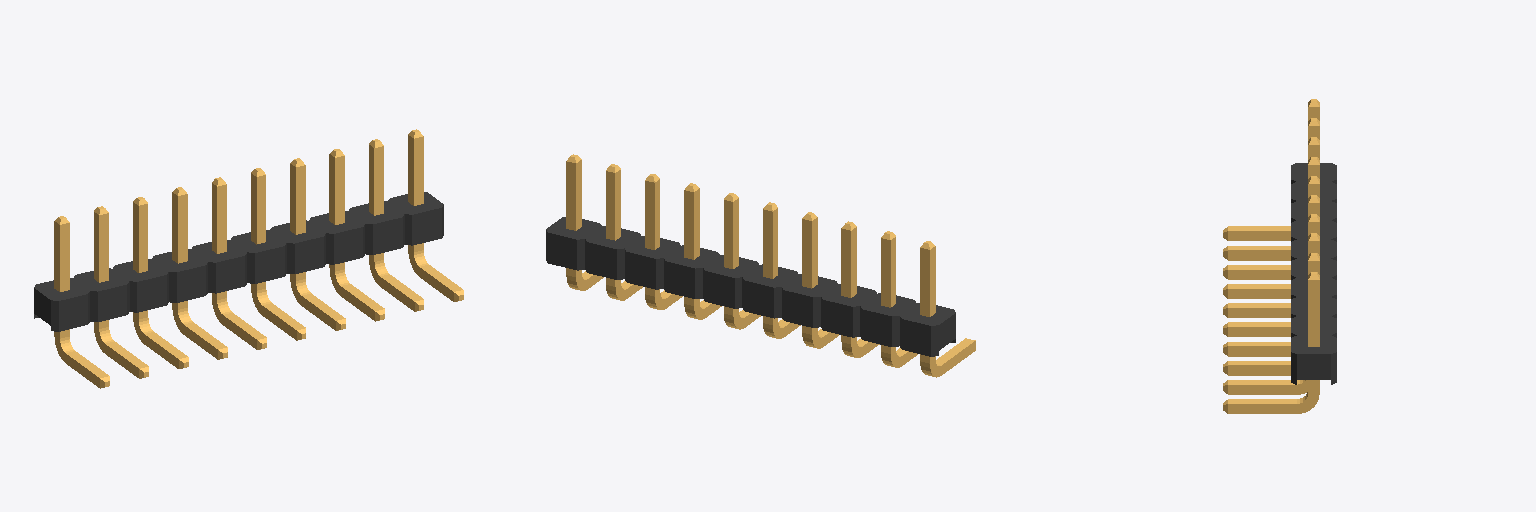
3 views of the same model, side by side, from view 1: azimuth 30°, elevation 25°; view 2: azimuth 150°, elevation 25°; view 3: azimuth 270°, elevation 25° (orthographic).
Visible parts, largest first — view 1: m22-[number redacted]_1, m22-[number redacted]_11, m22-[number redacted]_8, m22-[number redacted]_5, m22-[number redacted]_2, m22-[number redacted]_9, m22-[number redacted]_4, m22-[number redacted]_6, m22-[number redacted]_10, m22-[number redacted]_3, m22-[number redacted]_7; view 2: m22-[number redacted]_1, m22-[number redacted]_2, m22-[number redacted]_8, m22-[number redacted]_11, m22-[number redacted]_5, m22-[number redacted]_4, m22-[number redacted]_6, m22-[number redacted]_3, m22-[number redacted]_10, m22-[number redacted]_7, m22-[number redacted]_9; view 3: m22-[number redacted]_1, m22-[number redacted]_11, m22-[number redacted]_10, m22-[number redacted]_4, m22-[number redacted]_9, m22-[number redacted]_5, m22-[number redacted]_3, m22-[number redacted]_2, m22-[number redacted]_6, m22-[number redacted]_7, m22-[number redacted]_8.
Boxes of the visible parts, x1,y1,x2,y2 form: m22-[number redacted]_1: [34, 192, 443, 331]; m22-[number redacted]_11: [408, 129, 463, 301]; m22-[number redacted]_8: [290, 158, 345, 330]; m22-[number redacted]_5: [172, 187, 227, 359]; m22-[number redacted]_2: [54, 216, 109, 388]; m22-[number redacted]_9: [329, 149, 384, 321]; m22-[number redacted]_4: [133, 197, 188, 368]; m22-[number redacted]_6: [212, 177, 266, 349]; m22-[number redacted]_10: [369, 139, 423, 311]; m22-[number redacted]_3: [94, 206, 148, 378]; m22-[number redacted]_7: [251, 168, 305, 340]; m22-[number redacted]_1: [546, 217, 955, 356]; m22-[number redacted]_2: [920, 241, 975, 377]; m22-[number redacted]_8: [684, 183, 721, 319]; m22-[number redacted]_11: [566, 154, 603, 290]; m22-[number redacted]_5: [802, 212, 838, 348]; m22-[number redacted]_4: [841, 221, 879, 357]; m22-[number redacted]_6: [763, 202, 800, 338]; m22-[number redacted]_3: [881, 231, 917, 367]; m22-[number redacted]_10: [606, 164, 642, 300]; m22-[number redacted]_7: [724, 193, 760, 329]; m22-[number redacted]_9: [645, 174, 682, 309]; m22-[number redacted]_1: [1291, 163, 1336, 384]; m22-[number redacted]_11: [1223, 272, 1319, 413]; m22-[number redacted]_10: [1223, 253, 1319, 394]; m22-[number redacted]_4: [1223, 137, 1319, 279]; m22-[number redacted]_9: [1223, 233, 1319, 375]; m22-[number redacted]_5: [1223, 157, 1319, 298]; m22-[number redacted]_3: [1223, 118, 1319, 260]; m22-[number redacted]_2: [1223, 99, 1319, 240]; m22-[number redacted]_6: [1223, 176, 1319, 317]; m22-[number redacted]_7: [1223, 195, 1319, 336]; m22-[number redacted]_8: [1223, 214, 1319, 356].
Bounding box in the file's own units: 20 × 6.75 × 5.